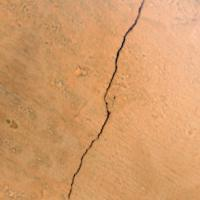crack: (62, 0, 149, 199)
